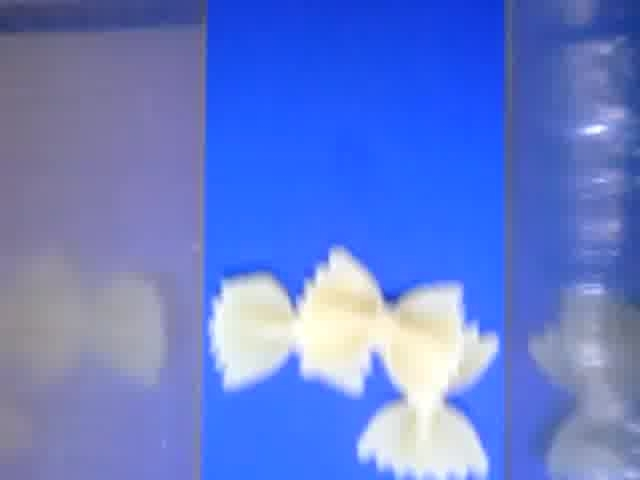farfalle: (304, 240, 462, 414), (353, 309, 498, 478), (212, 276, 367, 397)
